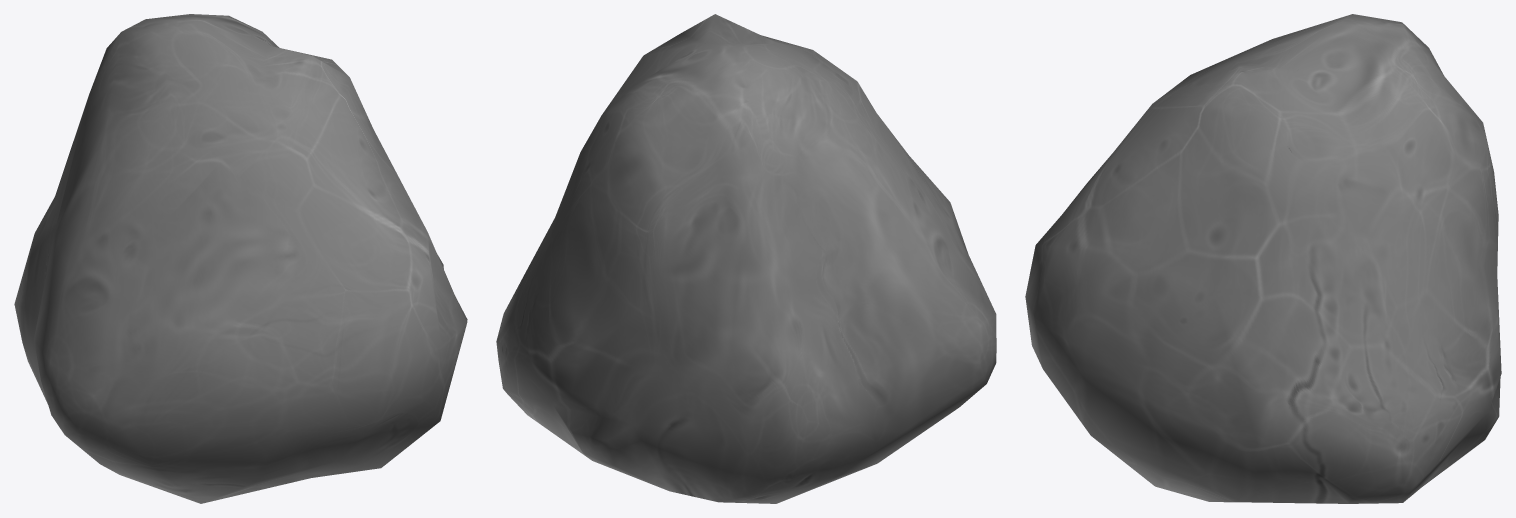
The model's file is Rock.fbx.
3 views of the same model, side by side, from view 1: azimuth 30°, elevation 25°; view 2: azimuth 150°, elevation 25°; view 3: azimuth 270°, elevation 25° (orthographic). The views are drawn at different scales.
Parts seen in each view (by area): view 1: Rock_Export; view 2: Rock_Export; view 3: Rock_Export.
Part boxes in pixels (bbox=[...]): Rock_Export: bbox=[14, 14, 467, 503]; Rock_Export: bbox=[496, 14, 996, 503]; Rock_Export: bbox=[1025, 14, 1501, 503].
Size of the model in its own units: 20.03 by 19.09 by 19.31.
1 material, 1 textured.
